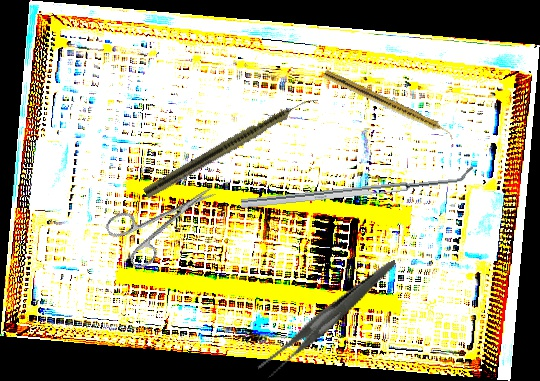Dressing Forceps: (239, 259, 418, 381)
Handpiece: (142, 90, 320, 201), (321, 69, 457, 141)
Iris Scissors: (102, 166, 230, 275)
Spatula Surgical: (239, 165, 475, 209)
